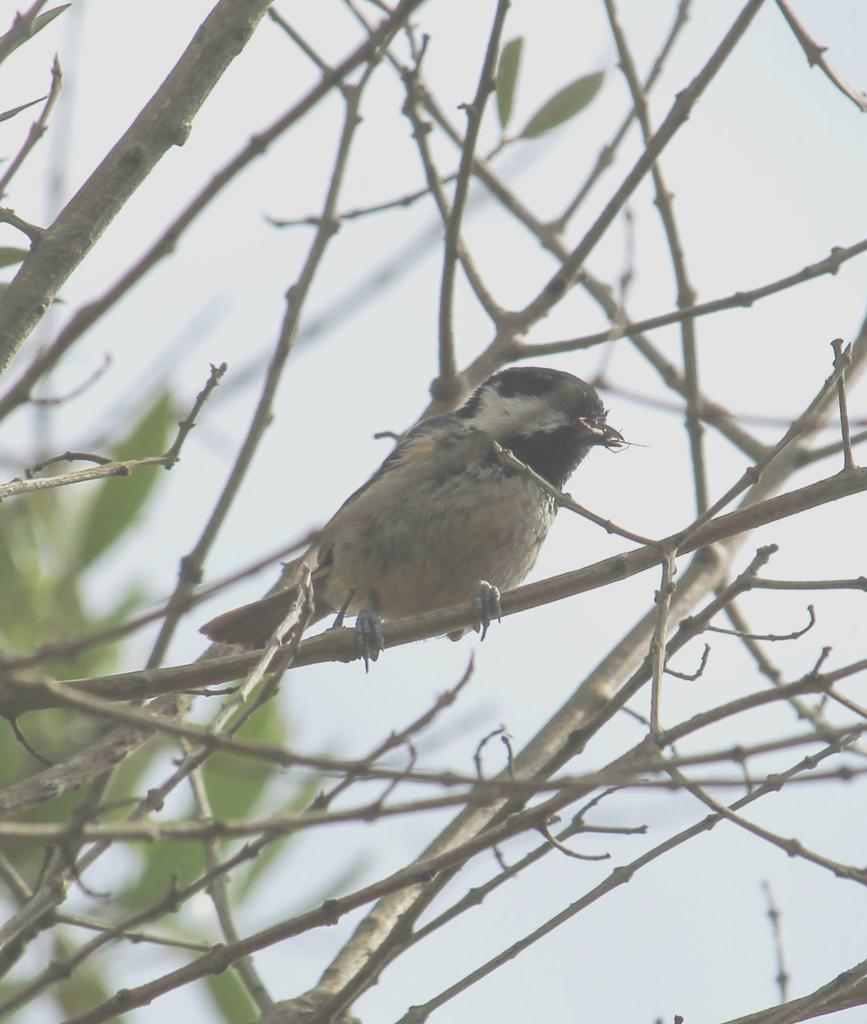PeriparusAter: (196, 361, 626, 676)
